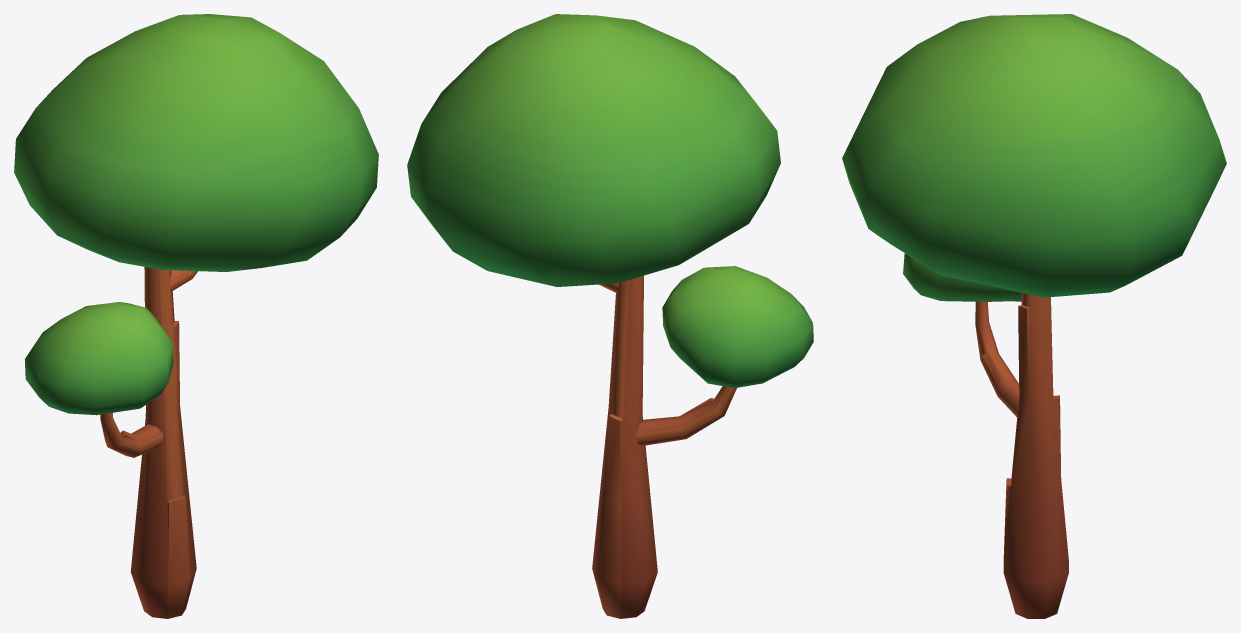
Rendered from kk-tree.glb.
The picture shows the model from 3 angles, left to right: view 1: azimuth 30°, elevation 25°; view 2: azimuth 150°, elevation 25°; view 3: azimuth 270°, elevation 25°; orthographic projection. The views are drawn at different scales.
Parts seen in each view (by area): view 1: Tree_7_A_Color1; view 2: Tree_7_A_Color1; view 3: Tree_7_A_Color1.
Boxes of the visible parts, bbox=[...] form: Tree_7_A_Color1: bbox=[14, 14, 378, 618]; Tree_7_A_Color1: bbox=[407, 14, 813, 618]; Tree_7_A_Color1: bbox=[842, 14, 1226, 618].
Bounding box in the file's own units: 3.14 × 5.09 × 2.89.
1 material, 1 textured.
